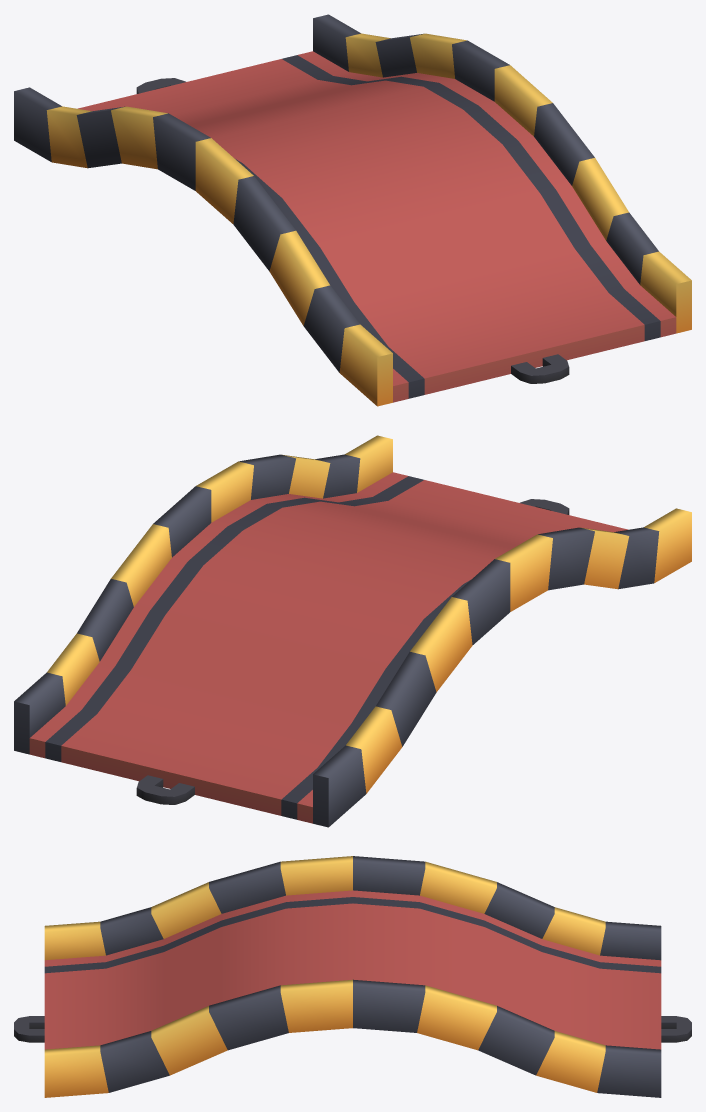
File: track-road-wide-straight-bump-up.fbx
The picture shows the model from 3 angles, top to bottom: view 1: azimuth 30°, elevation 25°; view 2: azimuth 150°, elevation 25°; view 3: azimuth 270°, elevation 25°; orthographic projection. The views are drawn at different scales.
Visible parts, largest first — view 1: track-road-wide-straight-bump-up; view 2: track-road-wide-straight-bump-up; view 3: track-road-wide-straight-bump-up.
Part boxes in pixels (x1,y1,x2,y2): track-road-wide-straight-bump-up: (14,14,691,406); track-road-wide-straight-bump-up: (14,435,691,827); track-road-wide-straight-bump-up: (14,856,691,1097).
Bounding box in the file's own units: 200 × 80 × 440.
